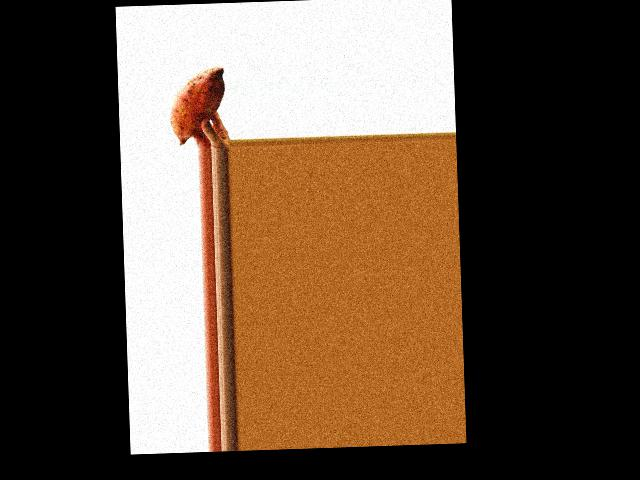sweet_potato: (163, 65, 228, 142)
